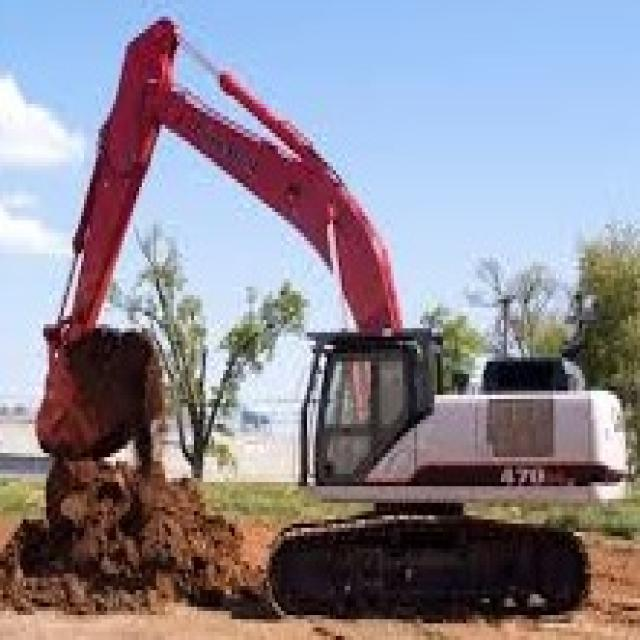excavator: (271, 312, 630, 615)
